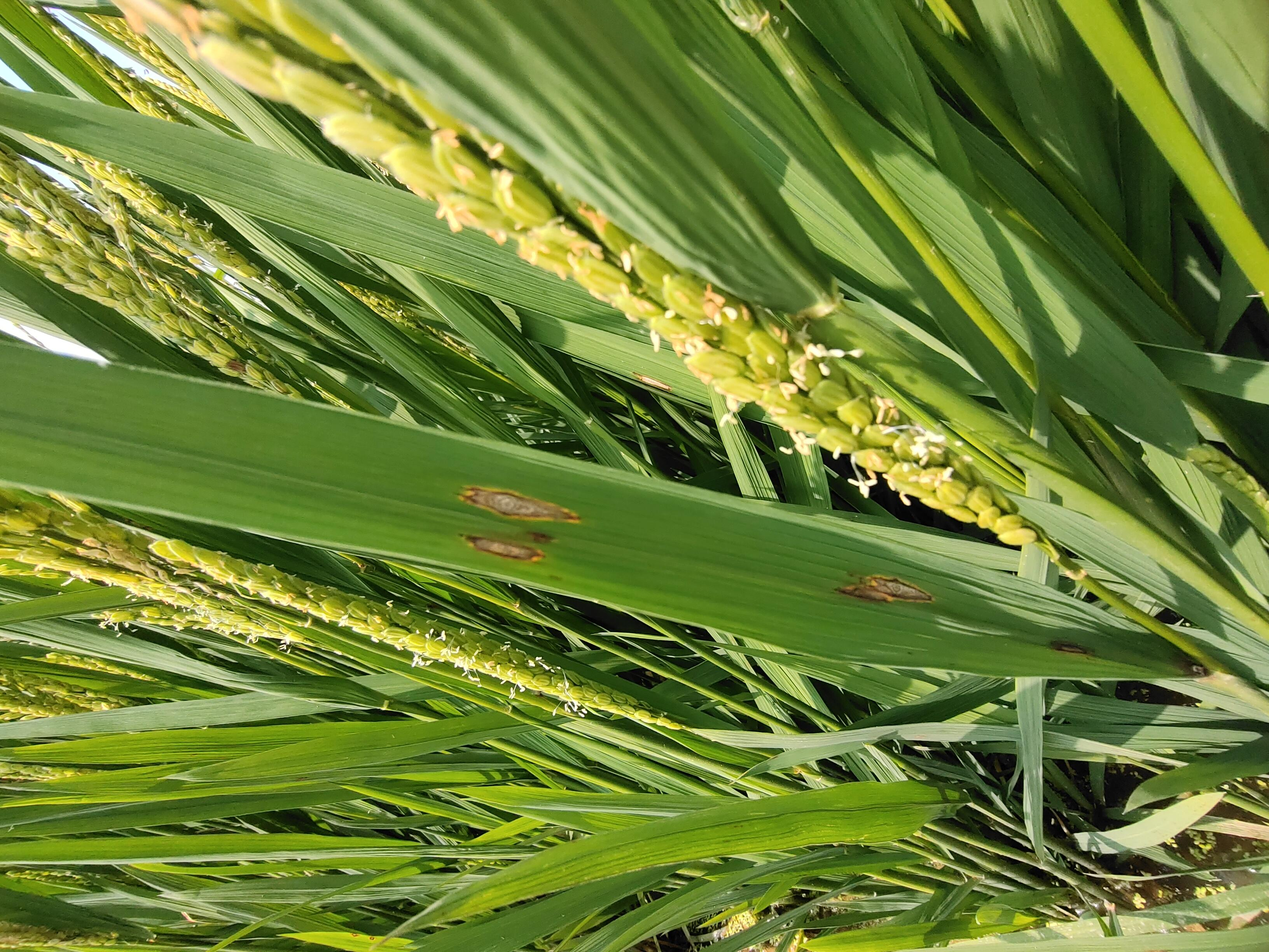LEAF: (0, 340, 1213, 679)
LEAF BLAST: (458, 486, 580, 523), (837, 576, 933, 602), (463, 535, 546, 564), (1051, 640, 1094, 656)
